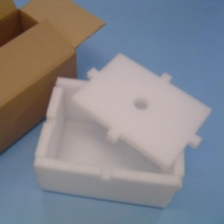book: (0, 0, 109, 156)
foam_box: (28, 48, 217, 212)
